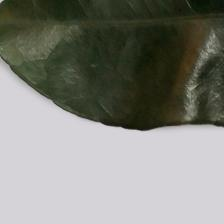healthy: (25, 4, 224, 143)
